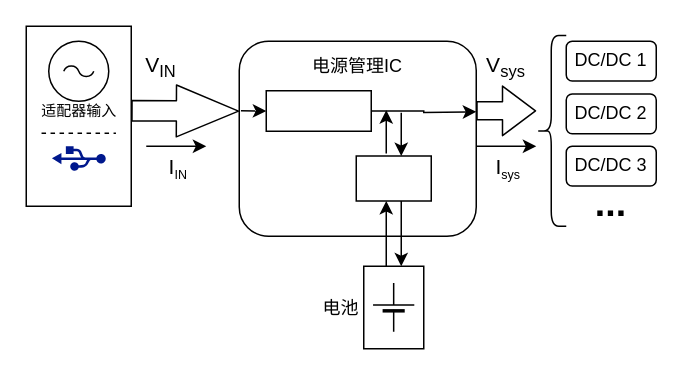
Some shapes in this 683 by 375 pixel diagram are drawn without their labels. The centre of each missing label's shape, as x and y in pixels:
"Battery FET" goes at (393,177).
"DC/DC" goes at (318,110).
"USB 输入" goes at (78,158).
